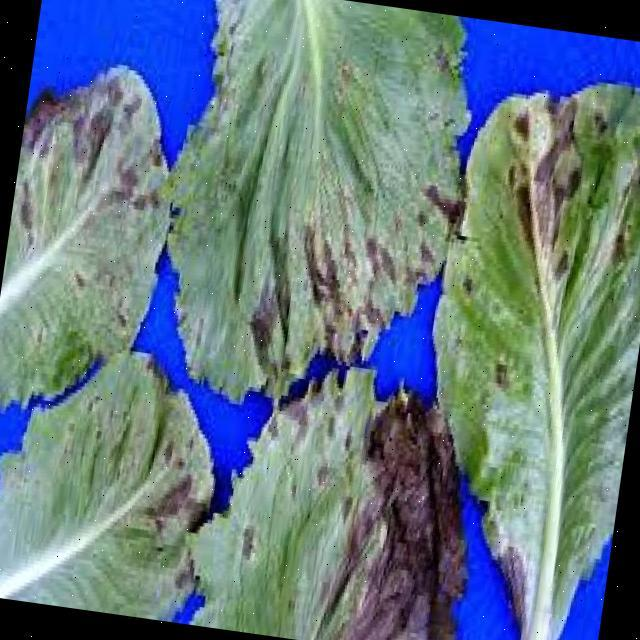Septoria_Blight: (246, 18, 441, 308), (235, 401, 450, 640), (468, 90, 640, 377)
